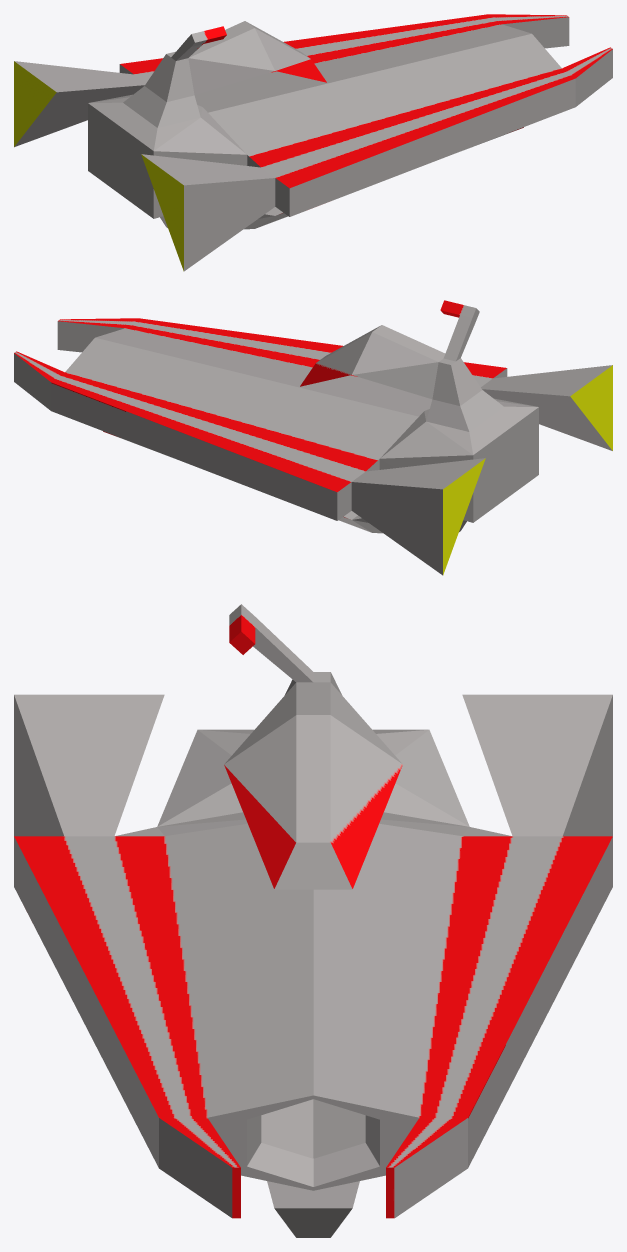
The model's file is NebulaKnockerOver6.fbx.
3 views of the same model, one above another, from view 1: azimuth 30°, elevation 25°; view 2: azimuth 150°, elevation 25°; view 3: azimuth 270°, elevation 25° (orthographic). The views are drawn at different scales.
Visible parts, largest first — view 1: Cube; view 2: Cube; view 3: Cube.
Part boxes in pixels (bbox=[...]): Cube: bbox=[14, 14, 612, 271]; Cube: bbox=[14, 300, 612, 575]; Cube: bbox=[14, 604, 612, 1237].
Bounding box in the file's own units: 13144 × 5770 × 7879.
1 material, 1 textured.
